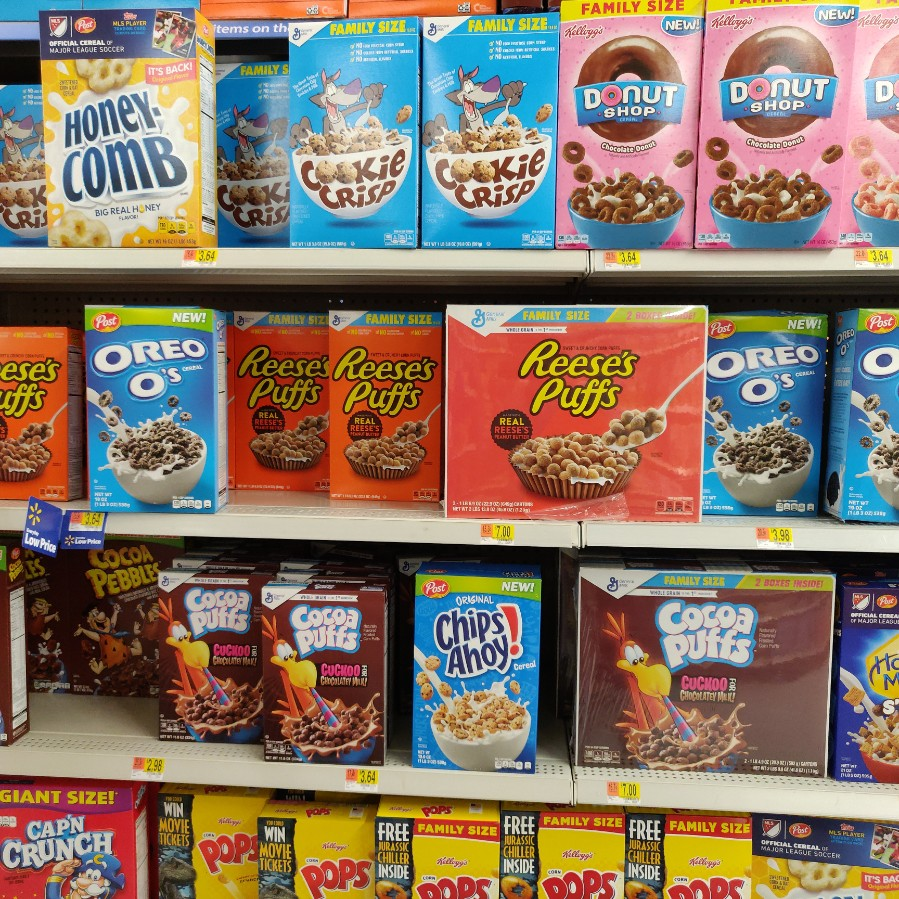Chips Ahoys-565717529: (413, 572, 534, 772)
Honey Comb- 009288857: (36, 10, 218, 235)
Oreo-563424384: (82, 294, 222, 522), (709, 316, 825, 519), (835, 292, 899, 525)
